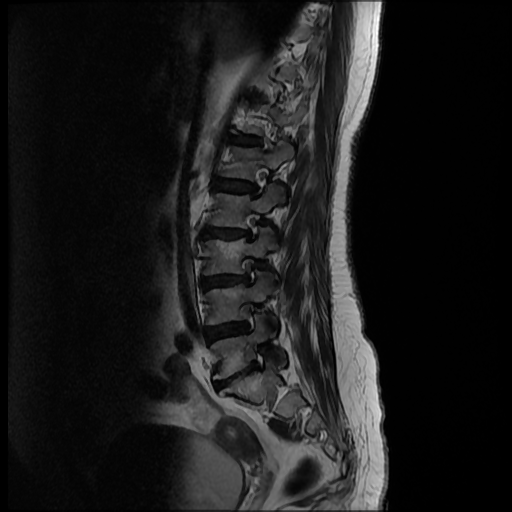RFS0: (229, 293, 269, 338), (242, 156, 278, 202), (227, 247, 266, 289), (236, 204, 269, 247)
